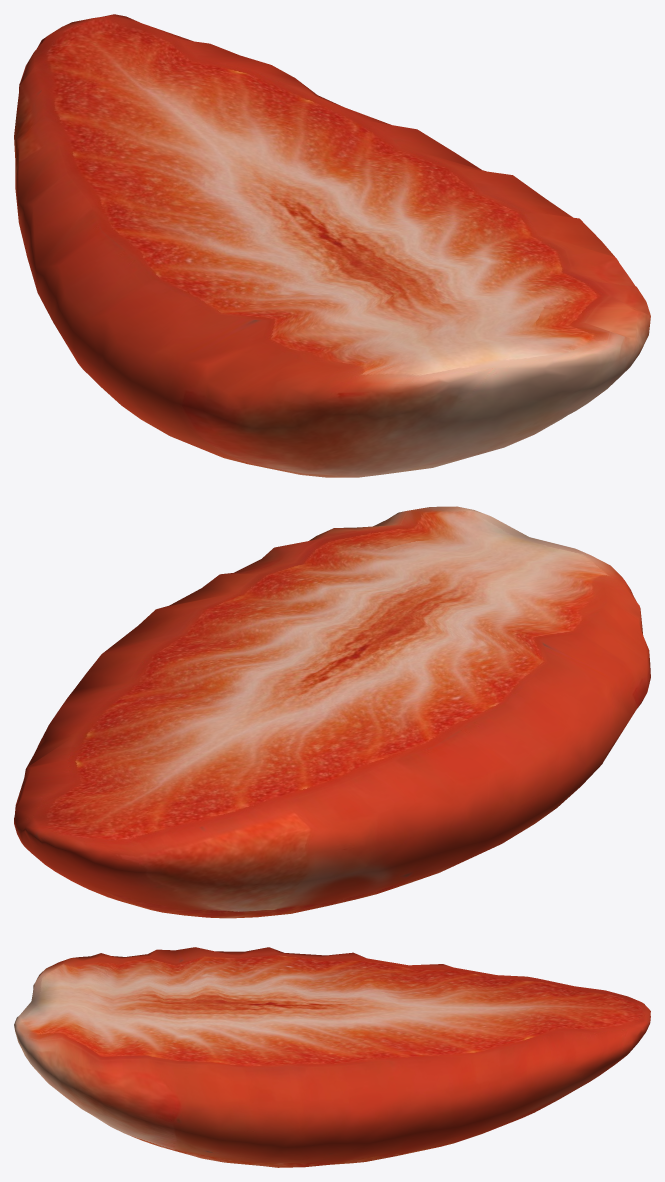
The model's file is Strawberry_Half.fbx.
The picture shows the model from 3 angles, top to bottom: view 1: azimuth 30°, elevation 25°; view 2: azimuth 150°, elevation 25°; view 3: azimuth 270°, elevation 25°; orthographic projection. The views are drawn at different scales.
Parts seen in each view (by area): view 1: Strawberry_Half; view 2: Strawberry_Half; view 3: Strawberry_Half.
Boxes of the visible parts, box(x1,y1,x2,y2) form: Strawberry_Half: box(14, 14, 650, 477); Strawberry_Half: box(14, 506, 650, 918); Strawberry_Half: box(14, 947, 650, 1167).
Size of the model in its own units: 0.0363 by 0.0149 by 0.061.
1 material, 1 textured.
